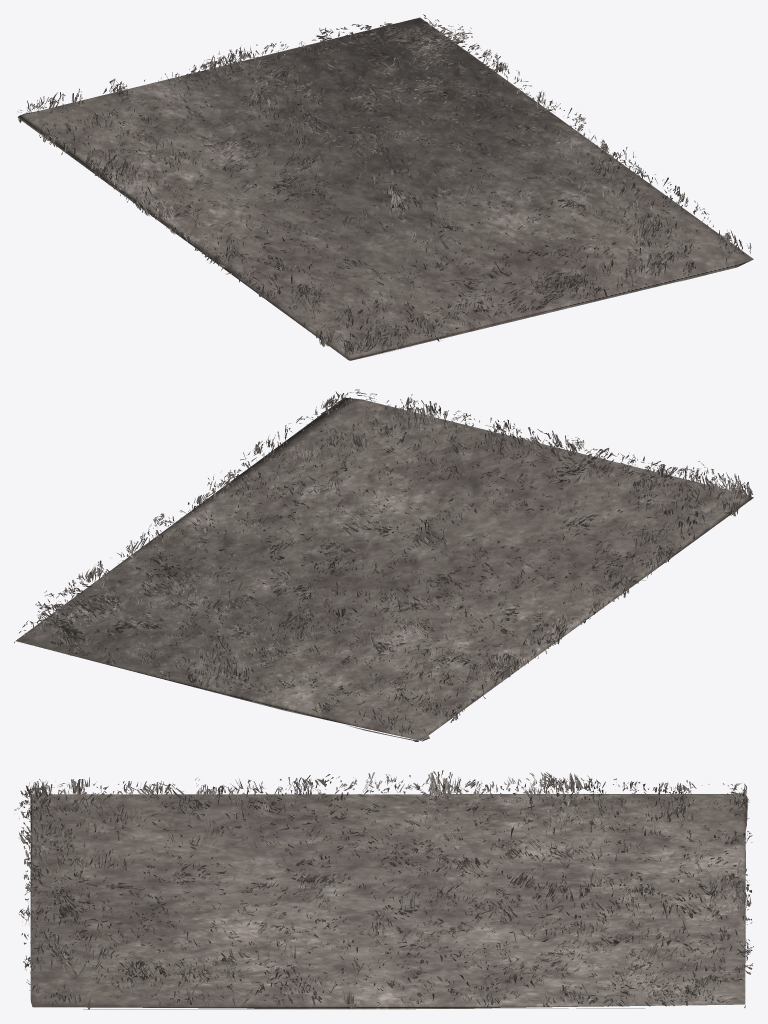
The model's file is carpet2.glb.
The picture shows the model from 3 angles, top to bottom: view 1: azimuth 30°, elevation 25°; view 2: azimuth 150°, elevation 25°; view 3: azimuth 270°, elevation 25°; orthographic projection. The views are drawn at different scales.
Parts seen in each view (by area): view 1: CarpetFluffy; view 2: CarpetFluffy; view 3: CarpetFluffy.
Part boxes in pixels (x1=…): CarpetFluffy: x1=17, y1=14, x2=753, y2=360; CarpetFluffy: x1=14, y1=389, x2=753, y2=741; CarpetFluffy: x1=14, y1=770, x2=753, y2=1009.
Size of the model in its own units: 1.42 by 0.0812 by 1.98.
1 material, 1 textured.
